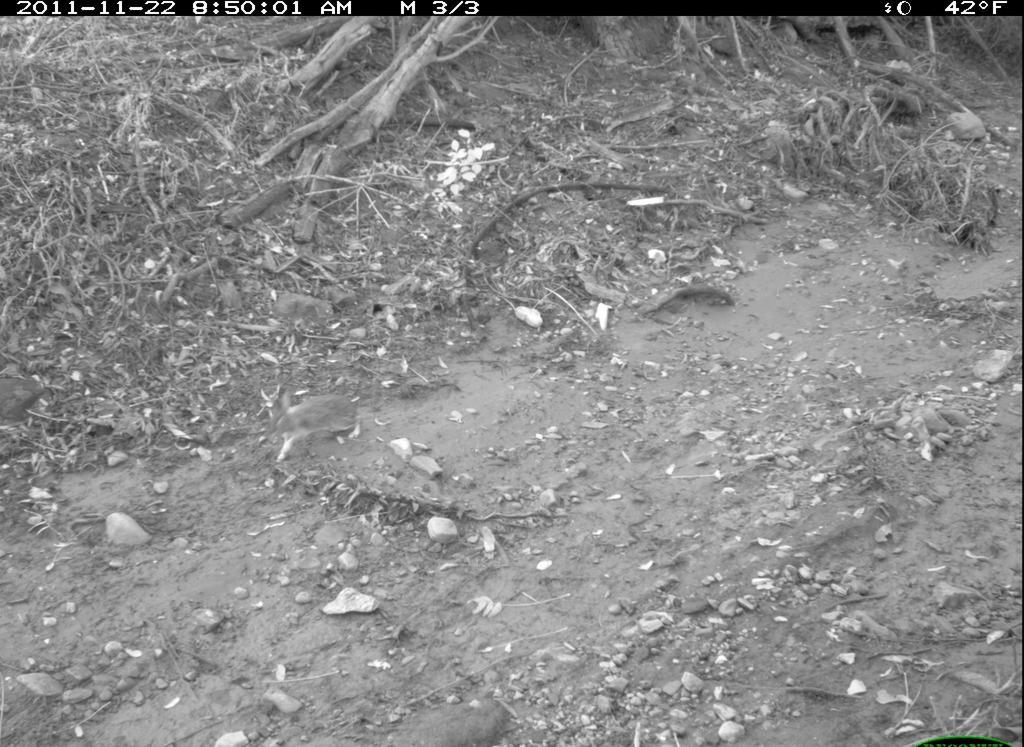rabbit: (262, 379, 369, 474)
